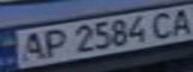2: (72, 21, 96, 54)
4: (127, 14, 154, 44)
5: (90, 19, 115, 52)
8: (109, 16, 133, 47)
A: (15, 29, 51, 62), (166, 6, 193, 36)
C: (148, 9, 181, 39)
P: (36, 26, 72, 60)
